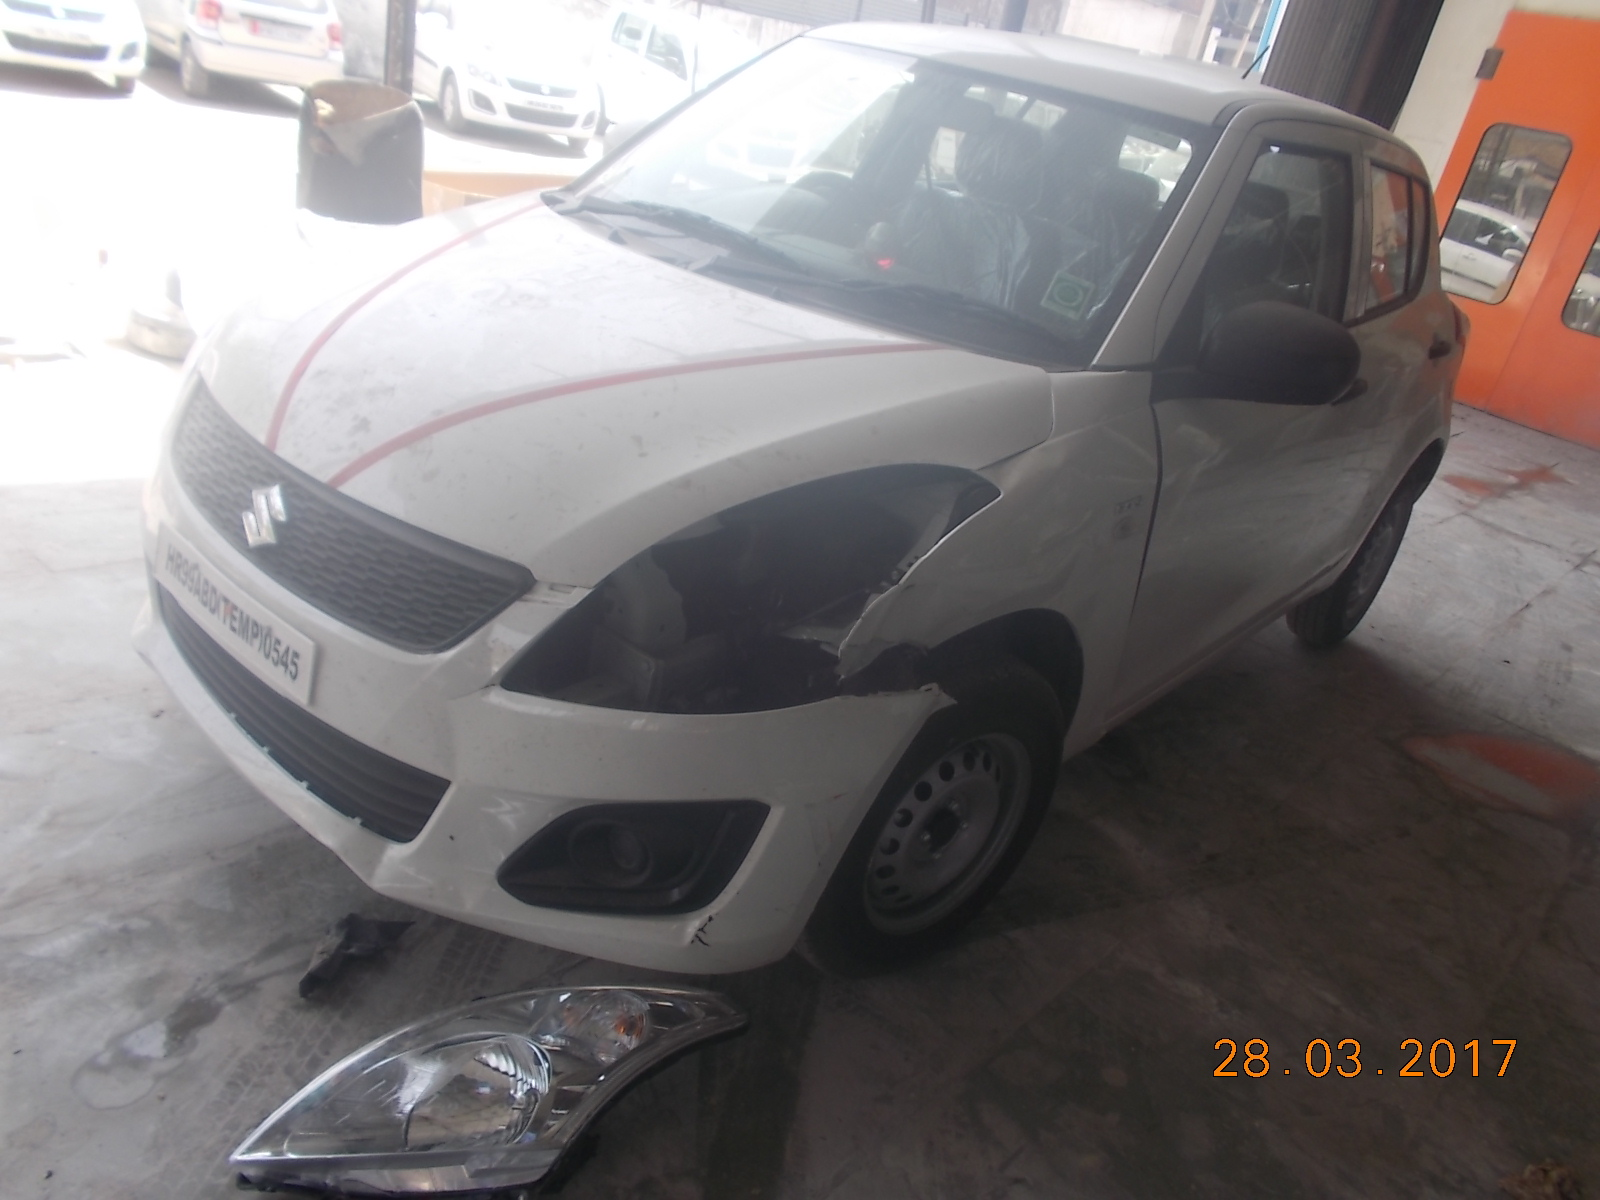Dislocation: (818, 584, 955, 720)
